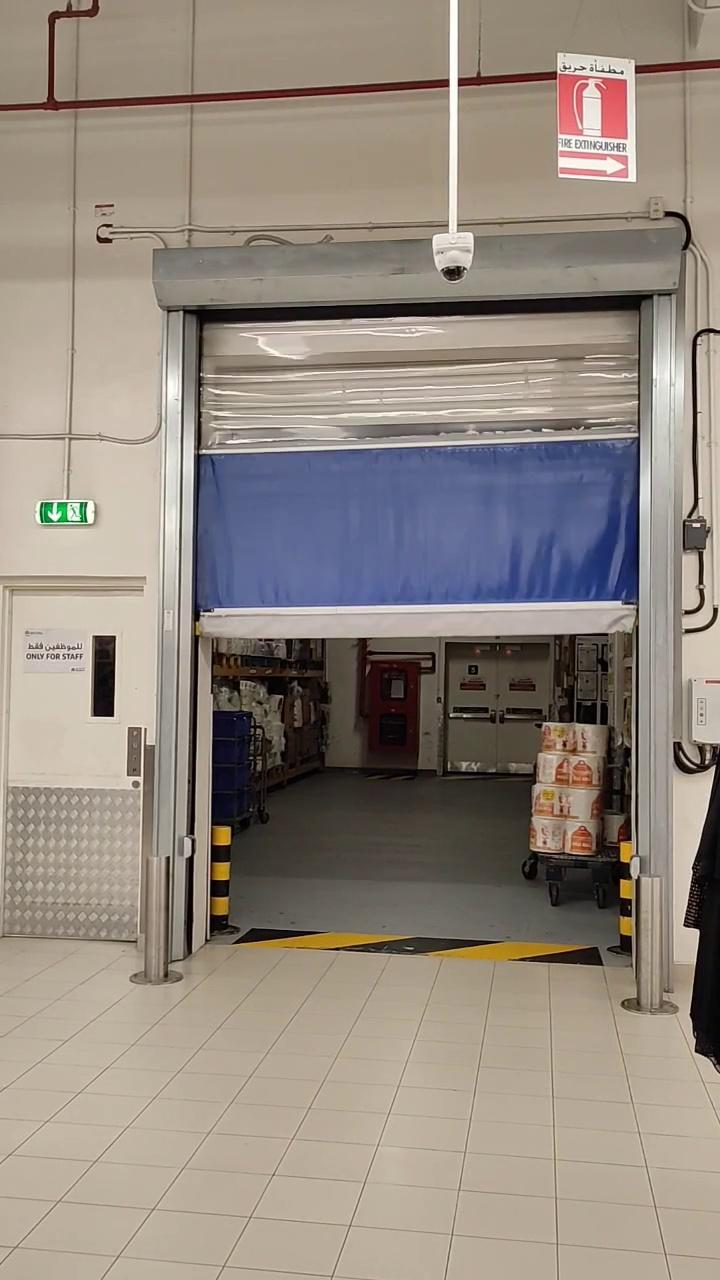Strip: (236, 915, 605, 971)
